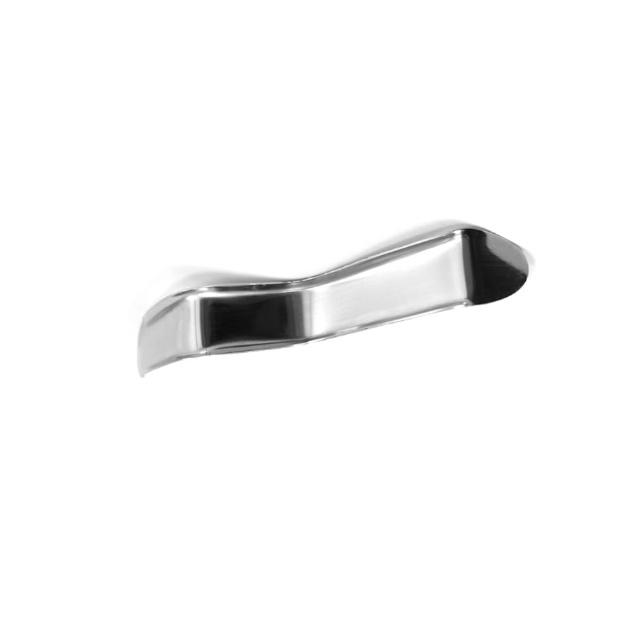separador: (137, 220, 534, 378)
